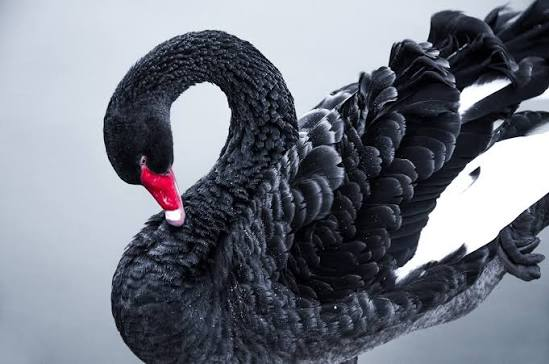black_swan: (101, 1, 549, 364)
